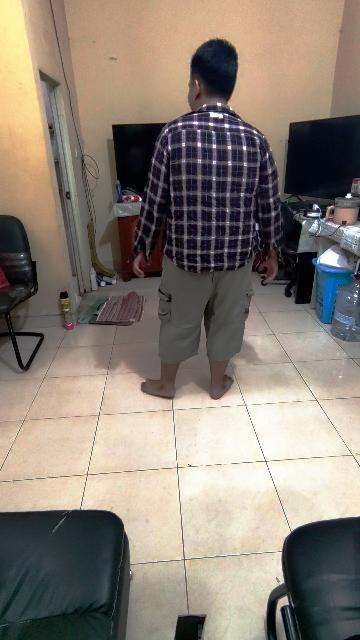berdiri: (133, 39, 279, 405)
